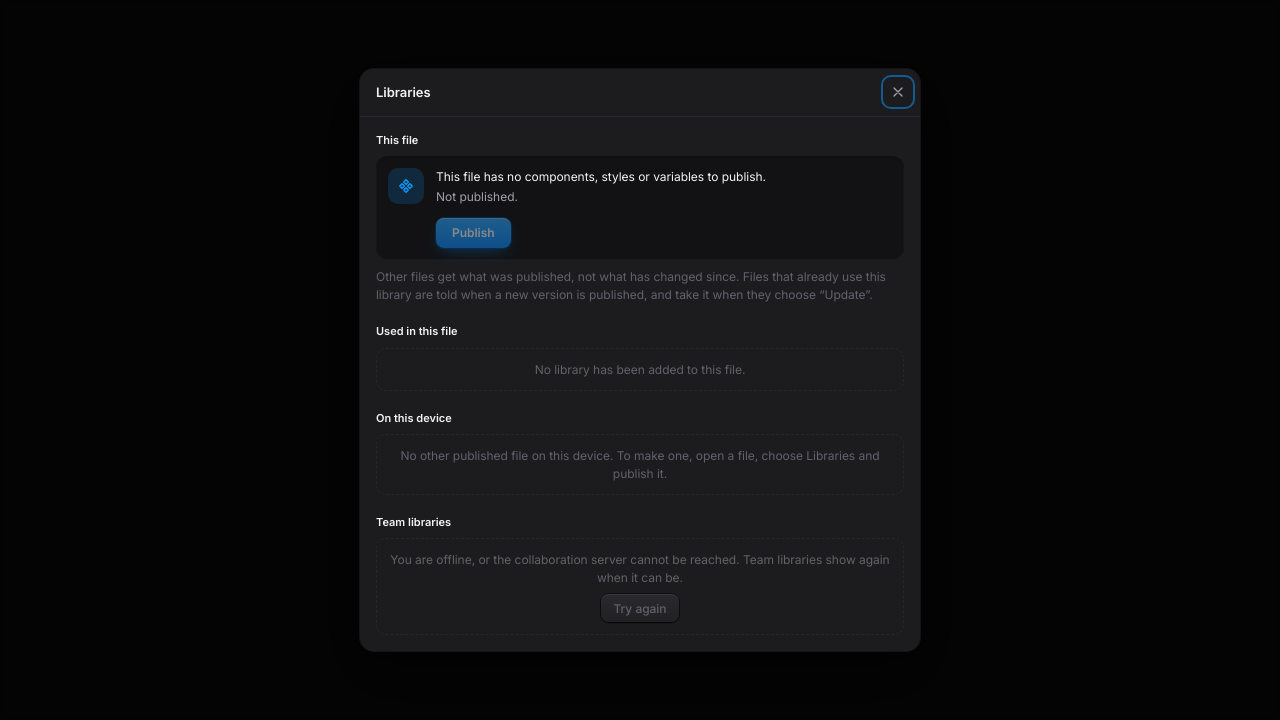
the Libraries dialog › says so when offline, and tries again
This screenshot has width=1280, height=720.
Expected: the element "Team libraries" shows "You are offline, or the collaboration server cannot be reached.", top-left (390, 552), bottom-right (890, 585)
Click the button "Try again": (640, 608) top-left (602, 594), bottom-right (679, 622)
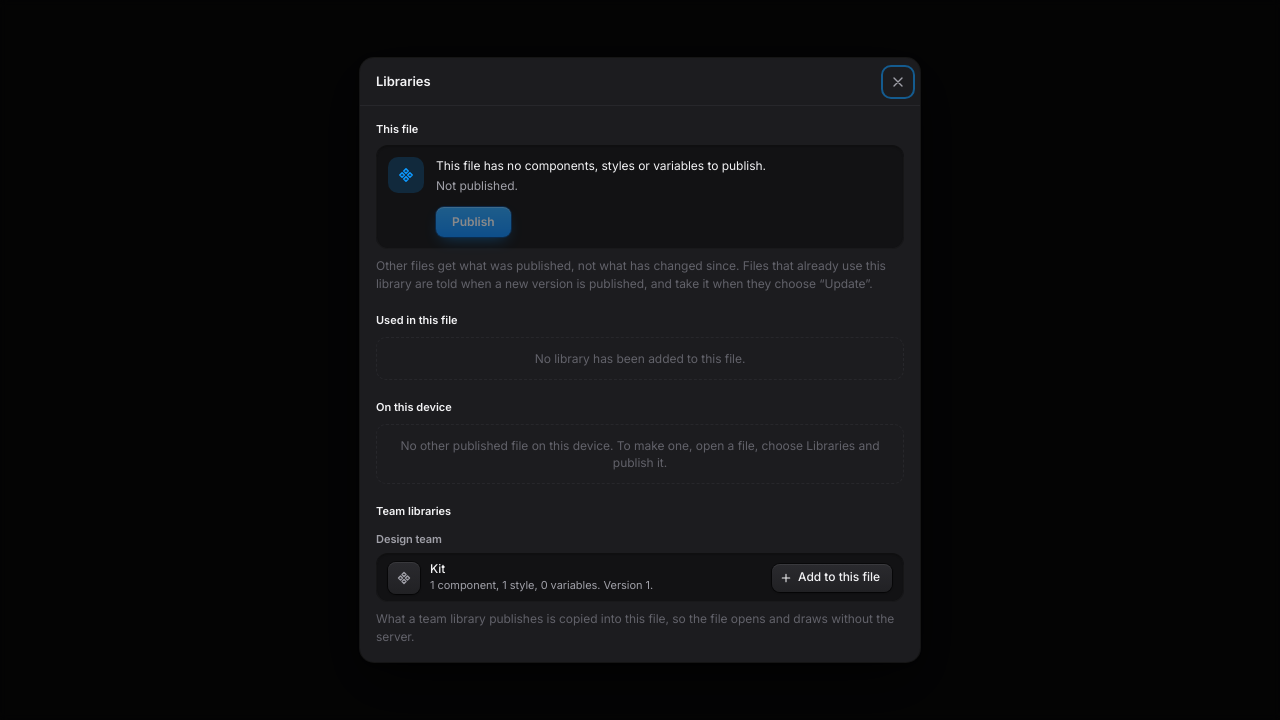
Now the element "Team libraries" shows "Kit", box top-left (430, 561), bottom-right (445, 576)
